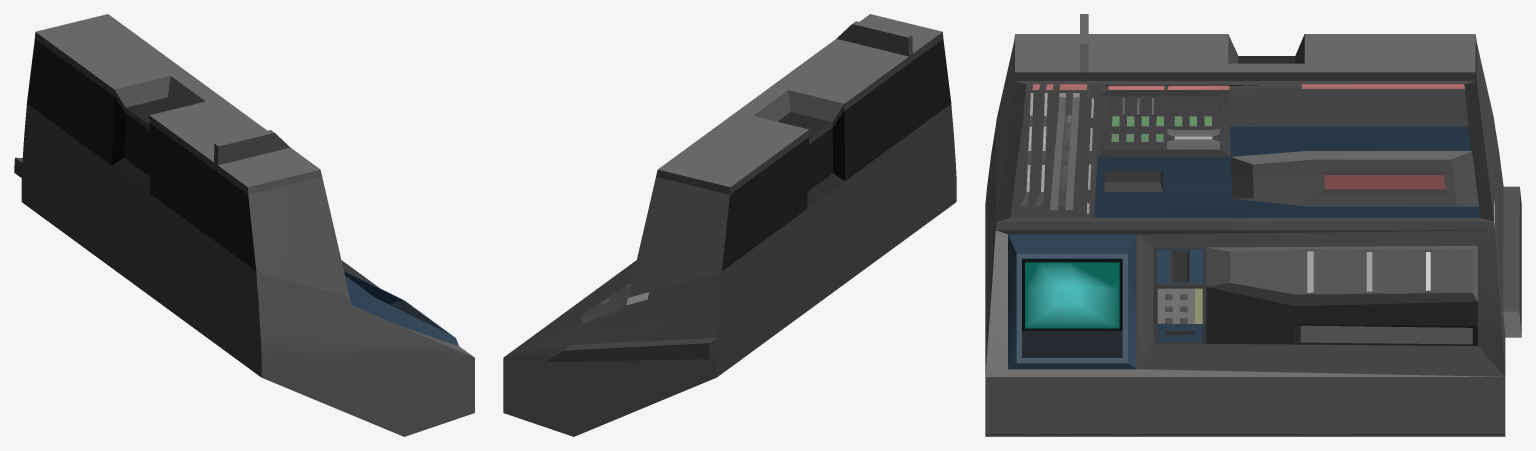
Rendered from console.fbx.
3 renders of one model, left to right at view 1: azimuth 30°, elevation 25°; view 2: azimuth 150°, elevation 25°; view 3: azimuth 270°, elevation 25°, orthographic. The views are drawn at different scales.
Visible parts, largest first — view 1: pCube1; view 2: pCube1; view 3: pCube1.
Part boxes in pixels (x1,y1,x2,y2): pCube1: (14,14,474,436); pCube1: (503,14,956,436); pCube1: (985,14,1521,436).
Size of the model in its own units: 1.74 by 2.29 by 3.5.
